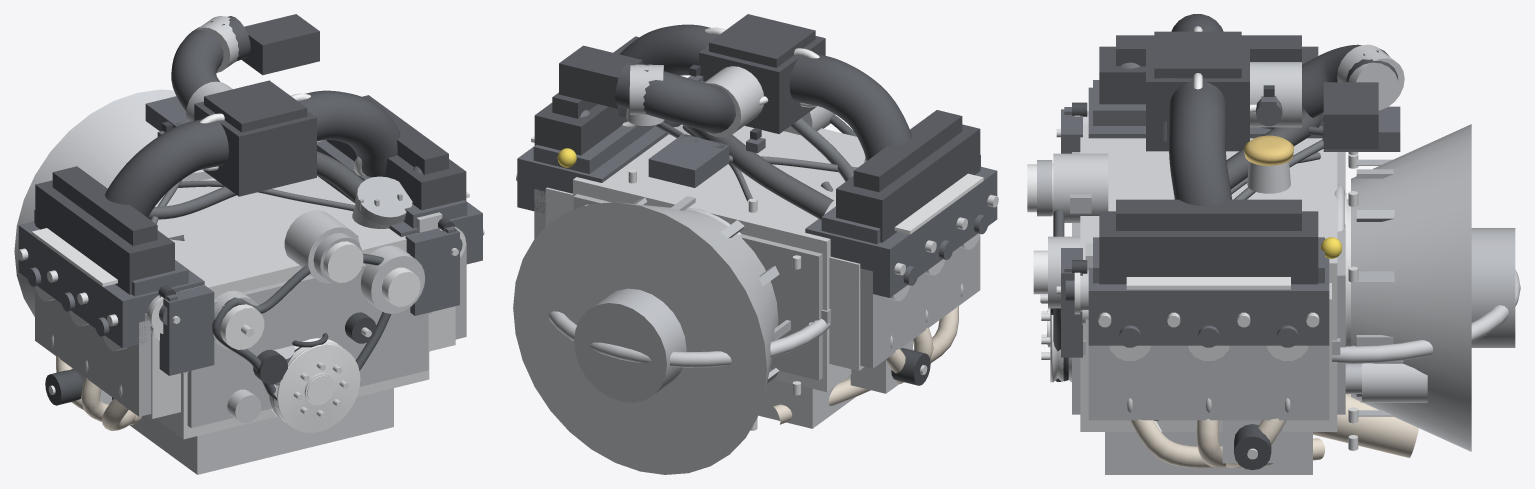
Rendered from engine.glb.
The picture shows the model from 3 angles, left to right: view 1: azimuth 30°, elevation 25°; view 2: azimuth 150°, elevation 25°; view 3: azimuth 270°, elevation 25°; orthographic projection. The views are drawn at different scales.
Parts seen in each view (by area): view 1: crankcaseMain, crankcaseWebFront, oilPan, bellTaper, headDeck_L, plenumBox, intakeTube_L, plenumCap_L, camCoverBody_L, crankPulleyDisc, intakeTube_R, timingChainCover_B2 (+35 smaller); view 2: bellTaper, crankcaseMain, bellSnout, headDeck_L, camCoverBody_L, intakeTube_L, plenumCap_L, crankcaseWebRear, intakeSnorkel, plenumBox, plenumCapCrown_L, plenumBoxLid (+23 smaller); view 3: bellTaper, headDeck_R, camCoverBody_R, crankcaseMain, plenumCap_R, intakeTube_R, plenumCapCrown_R, oilPan, bellSnout, plenumBox, plenumBoxLid, airFilterHousingBody (+35 smaller).
Part boxes in pixels (left/top/right/bottom): crankcaseMain: left=155, top=176, right=429, bottom=439; crankcaseWebFront: left=187, top=252, right=428, bottom=427; oilPan: left=129, top=388, right=393, bottom=474; bellTaper: left=14, top=89, right=212, bottom=316; headDeck_L: left=35, top=288, right=151, bottom=416; plenumBox: left=194, top=101, right=316, bottom=196; intakeTube_L: left=105, top=119, right=228, bottom=217; plenumCap_L: left=35, top=180, right=174, bottom=294; camCoverBody_L: left=18, top=221, right=204, bottom=348; crankPulleyDisc: left=269, top=338, right=360, bottom=432; intakeTube_R: left=298, top=90, right=400, bottom=177; timingChainCover_B2: left=159, top=285, right=214, bottom=375; bellTaper: left=513, top=202, right=778, bottom=474; crankcaseMain: left=573, top=126, right=865, bottom=391; bellSnout: left=574, top=288, right=686, bottom=402; headDeck_L: left=860, top=236, right=980, bottom=368; camCoverBody_L: left=805, top=166, right=997, bottom=297; intakeTube_L: left=789, top=54, right=911, bottom=160; plenumCap_L: left=836, top=124, right=980, bottom=242; crankcaseWebRear: left=573, top=194, right=822, bottom=380; intakeSnorkel: left=615, top=61, right=735, bottom=133; plenumBox: left=699, top=36, right=825, bottom=133; plenumCapCrown_L: left=853, top=110, right=962, bottom=192; plenumBoxLid: left=709, top=14, right=815, bottom=67; bellTaper: left=1351, top=124, right=1471, bottom=451; headDeck_R: left=1088, top=345, right=1329, bottom=420; camCoverBody_R: left=1088, top=257, right=1329, bottom=345; crankcaseMain: left=1080, top=124, right=1337, bottom=431; plenumCap_R: left=1099, top=211, right=1318, bottom=284; intakeTube_R: left=1169, top=79, right=1232, bottom=205; plenumCapCrown_R: left=1116, top=199, right=1301, bottom=230; oilPan: left=1105, top=432, right=1312, bottom=474; bellSnout: left=1471, top=228, right=1515, bottom=347; plenumBox: left=1146, top=38, right=1249, bottom=151; plenumBoxLid: left=1154, top=31, right=1241, bottom=78; airFilterHousingBody: left=1323, top=82, right=1378, bottom=149.
Bounding box in the file's own units: 4.54 × 4.28 × 4.51.
